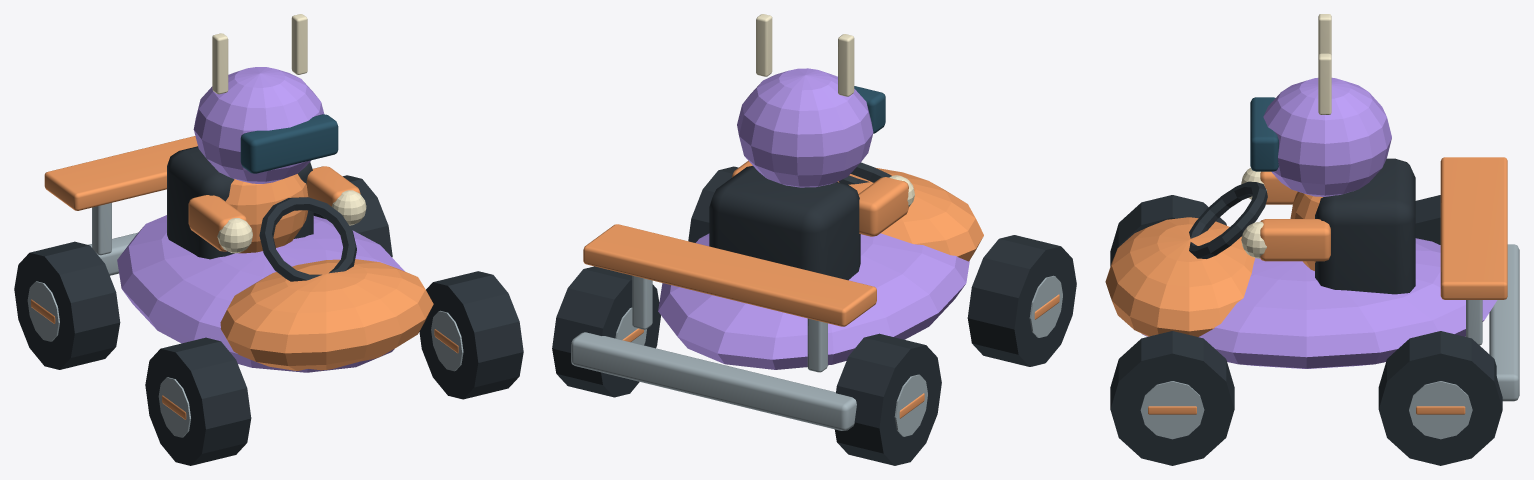
File: kart-3.glb
3 renders of one model, left to right at view 1: azimuth 30°, elevation 25°; view 2: azimuth 150°, elevation 25°; view 3: azimuth 270°, elevation 25°, orthographic. The views are drawn at different scales.
Visible parts, largest first — view 1: Bubble hood, Body.003, Tire.013, Tire.012, Tire.014, Helmet.003, Wing.001, Seat.003, Visor.003, Suit.003, Steering wheel.003, Sleeve.006 (+11 smaller); view 2: Body.003, Wing.001, Helmet.003, Seat.003, Rear bumper.003, Tire.012, Tire.013, Tire.015, Bubble hood, Sleeve.006, Hub.013, Hub.012 (+7 smaller); view 3: Body.003, Bubble hood, Helmet.003, Tire.014, Tire.015, Seat.003, Wing.001, Rear bumper.003, Sleeve.007, Steering wheel.003, Hub.015, Hub.014 (+11 smaller).
Boxes of the visible parts, x1,y1,x2,y2 form: Bubble hood: (220, 259, 433, 370); Body.003: (117, 215, 404, 372); Tire.013: (14, 241, 120, 369); Tire.012: (145, 337, 251, 465); Tire.014: (419, 271, 523, 399); Helmet.003: (193, 67, 324, 183); Wing.001: (44, 136, 197, 210); Seat.003: (167, 146, 313, 259); Visor.003: (240, 114, 338, 173); Suit.003: (225, 174, 308, 253); Steering wheel.003: (259, 197, 356, 281); Sleeve.006: (188, 195, 246, 251); Body.003: (658, 233, 969, 369); Wing.001: (583, 224, 876, 326); Helmet.003: (737, 68, 873, 187); Seat.003: (709, 166, 860, 280); Rear bumper.003: (571, 332, 856, 430); Tire.012: (967, 235, 1076, 366); Tire.013: (834, 333, 941, 465); Tire.015: (552, 266, 660, 397); Bubble hood: (848, 167, 983, 261); Sleeve.006: (858, 177, 908, 236); Hub.013: (894, 374, 927, 436); Hub.012: (1029, 275, 1062, 337); Body.003: (1141, 238, 1497, 368); Bubble hood: (1105, 217, 1255, 336); Helmet.003: (1263, 77, 1391, 196); Tire.014: (1110, 331, 1234, 465); Tire.015: (1378, 331, 1502, 465); Seat.003: (1315, 158, 1415, 294); Wing.001: (1440, 157, 1507, 299); Rear bumper.003: (1489, 244, 1519, 401); Sleeve.007: (1260, 219, 1330, 261); Steering wheel.003: (1189, 181, 1267, 258); Hub.015: (1409, 381, 1472, 439); Hub.014: (1140, 381, 1204, 439).
Bounding box in the file's own units: 2.27 × 2.31 × 2.47.
